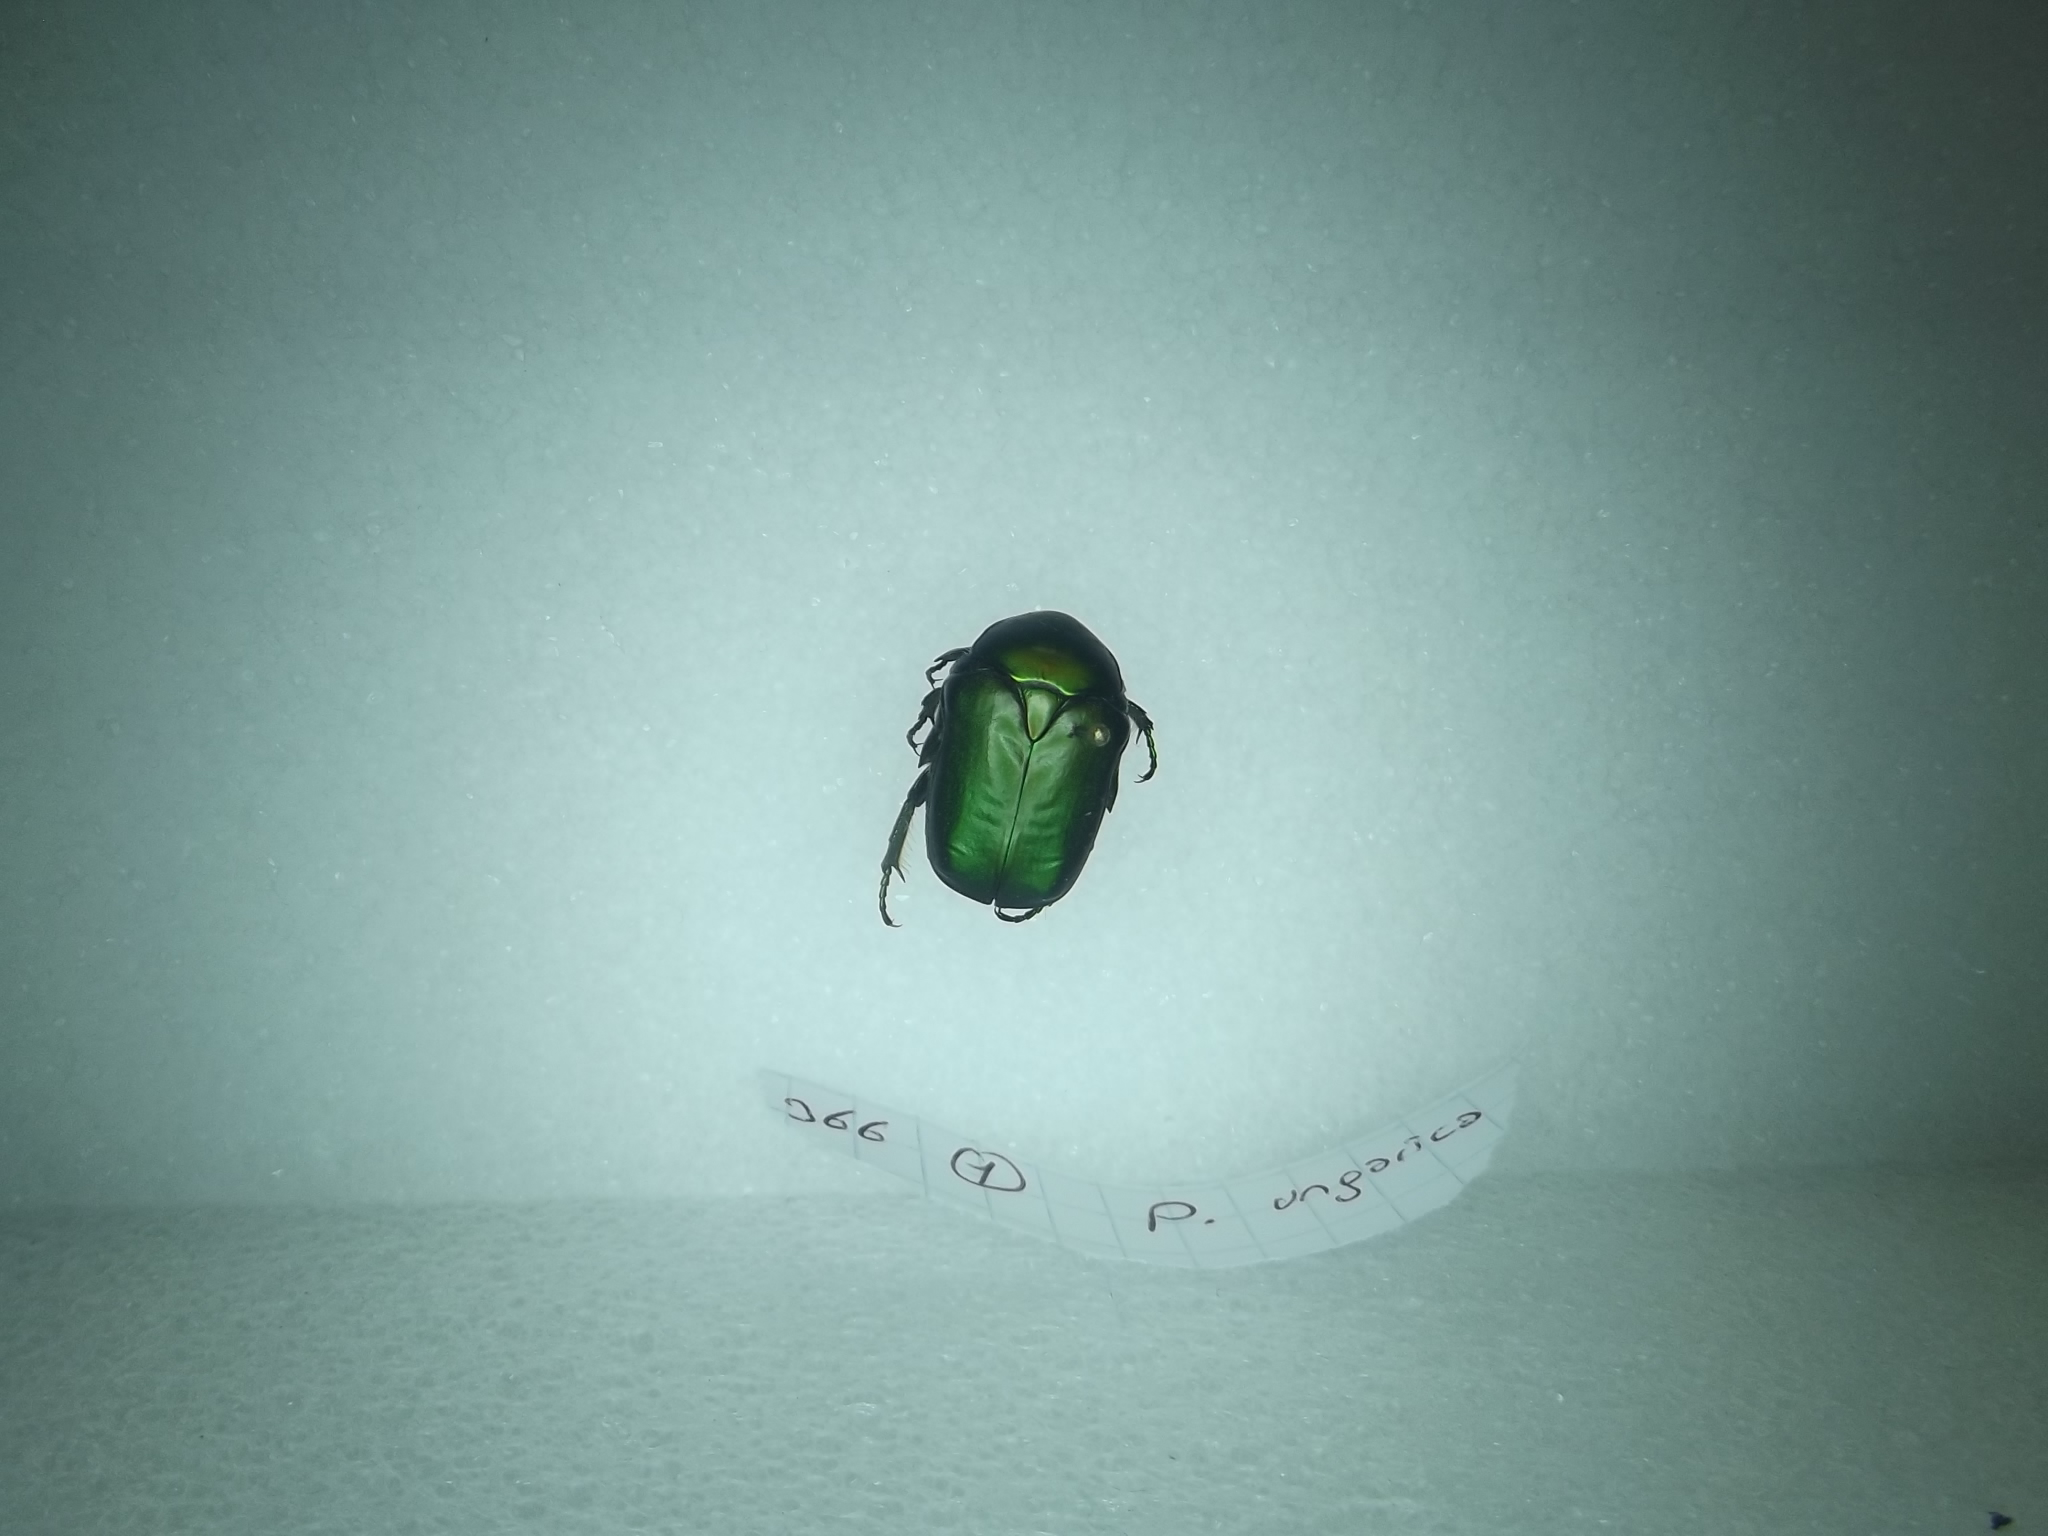Protaetia_ungarica_americana: (874, 584, 1185, 933)
